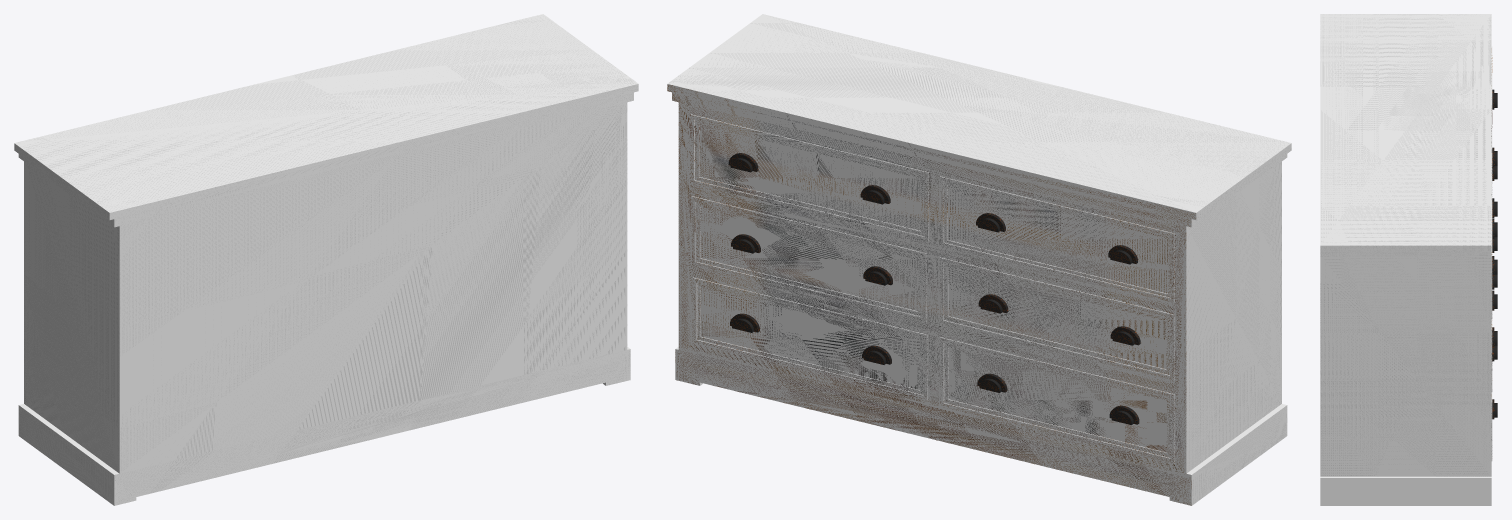
3 renders of one model, left to right at view 1: azimuth 30°, elevation 25°; view 2: azimuth 150°, elevation 25°; view 3: azimuth 270°, elevation 25°, orthographic. The views are drawn at different scales.
Parts seen in each view (by area): view 1: mesh2_mesh2-geometry; view 2: mesh2_mesh2-geometry, mesh1_mesh1-geometry; view 3: mesh2_mesh2-geometry, mesh1_mesh1-geometry.
Part boxes in pixels (<box>): mesh2_mesh2-geometry: <box>14,14,638,505</box>; mesh2_mesh2-geometry: <box>667,14,1291,505</box>; mesh1_mesh1-geometry: <box>728,153,1140,424</box>; mesh2_mesh2-geometry: <box>1320,14,1492,505</box>; mesh1_mesh1-geometry: <box>1492,89,1497,419</box>.
Bounding box in the file's own units: 0.849 × 0.4513 × 0.2749.
